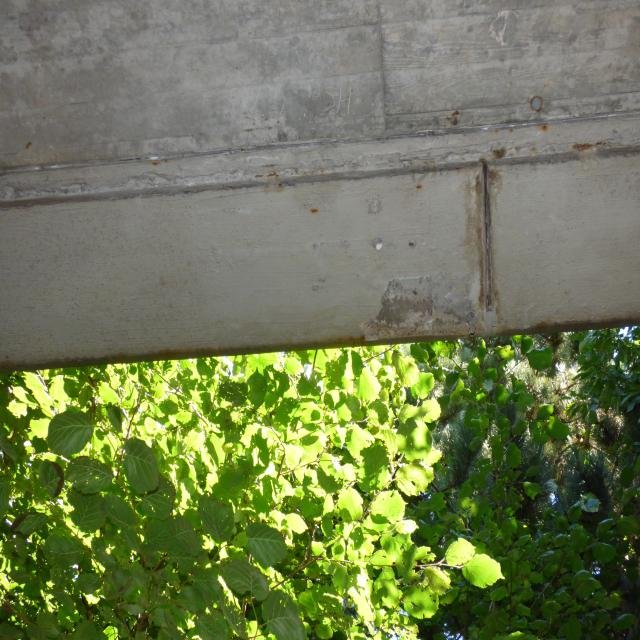corrosion: (0, 112, 640, 375)
